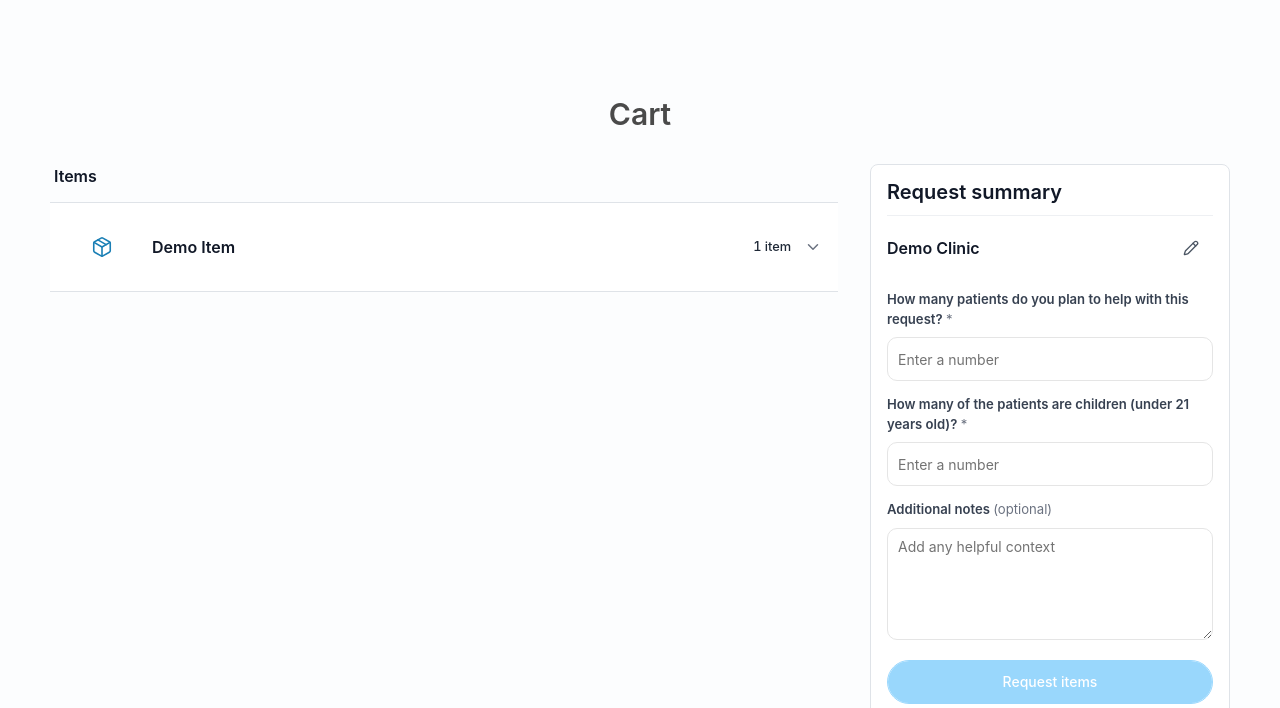
Scenario: Cart request context › requires both patient counts before enabling the request
The width and height of the screenshot is (1280, 708).
Expected: the button with aria-label "Confirm" is disabled, [887, 660, 1213, 704]
Type "3" into the number field labelled "How many patients do you plan to help with this request? *" at [1050, 359], box [887, 337, 1213, 381]
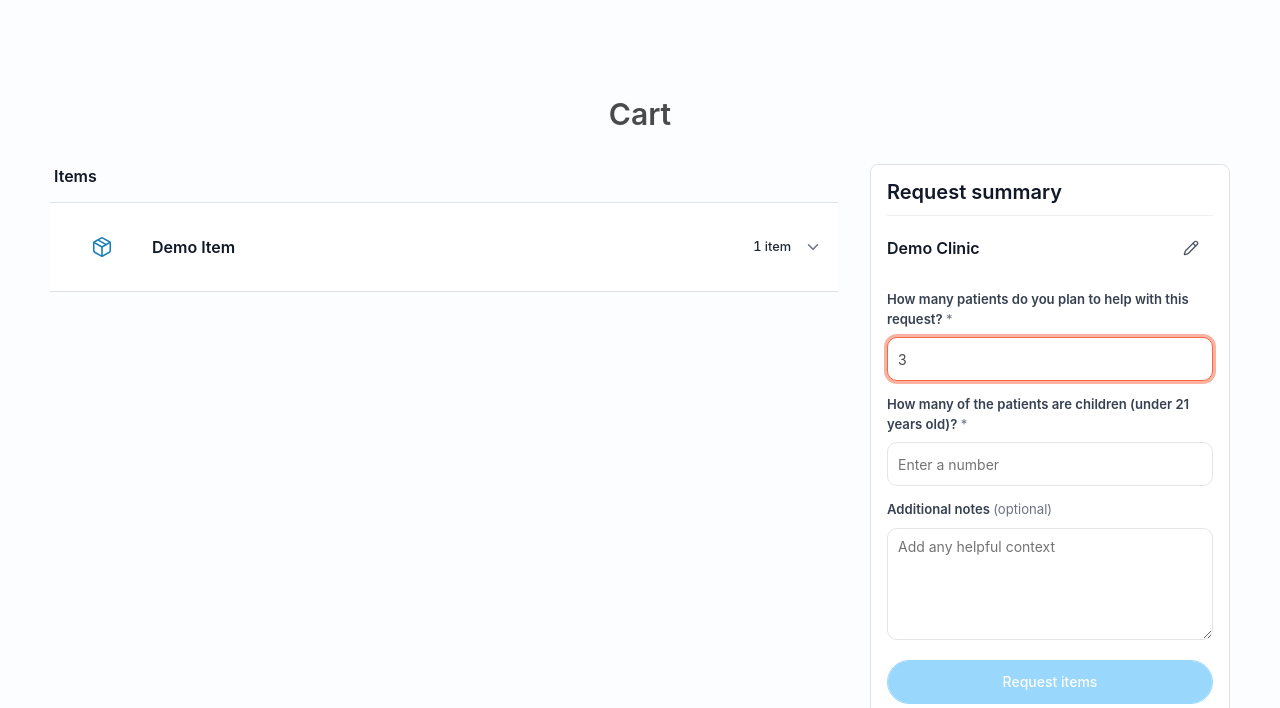
Expected: the button with aria-label "Confirm" is disabled, [887, 660, 1213, 704]
Type "0" into the number field labelled "How many of the patients are children" at [1050, 464], box [887, 442, 1213, 486]
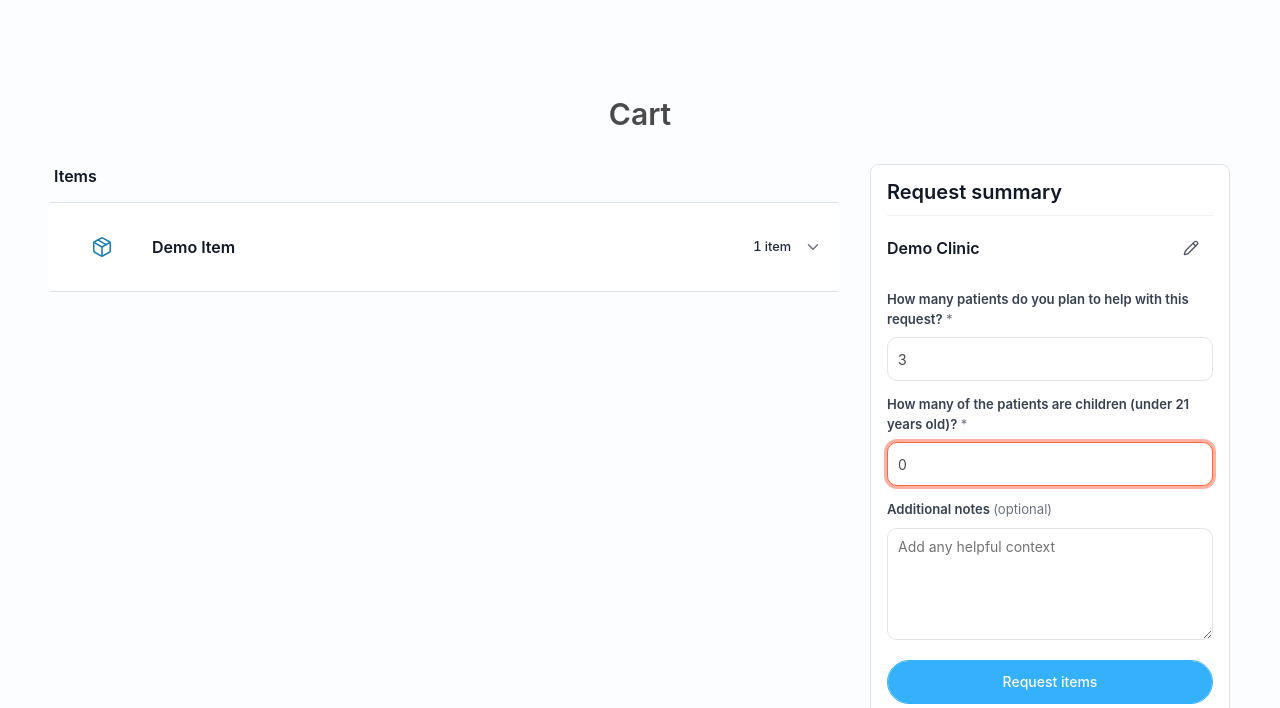
Expected: the button with aria-label "Confirm" is enabled, [887, 660, 1213, 704]
